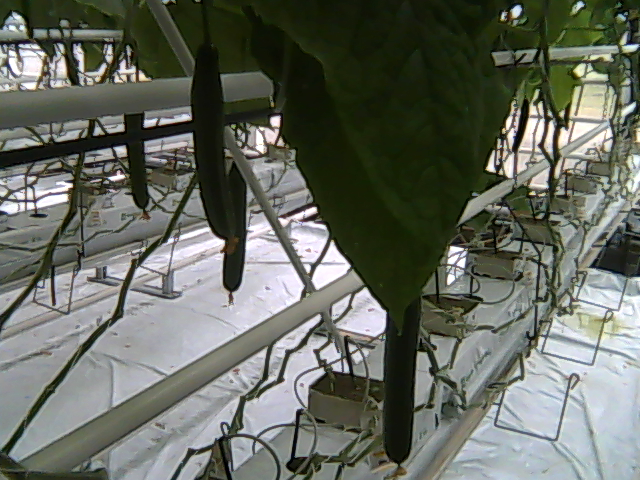concombre: (187, 36, 244, 260), (380, 294, 425, 479)
